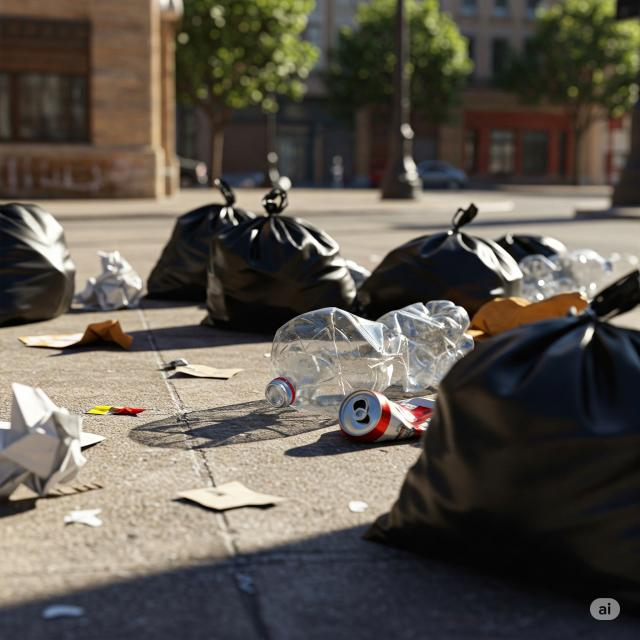aluminum: (339, 387, 432, 443)
paper: (0, 378, 101, 496), (76, 250, 143, 310)
plastic: (262, 307, 476, 410)
